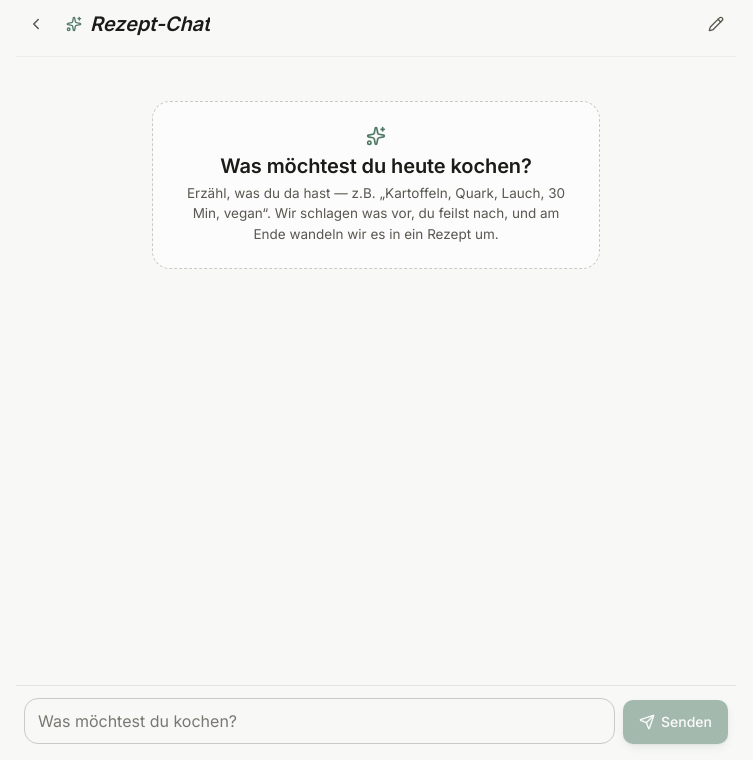
Test case: <ChatPage /> — abort + retry › Abbrechen aborts the stream and the partial content is preserved via refetch
(page scrolled)
Type "Frag was" into the text box named "Nachricht" at (320, 721), box [24,698,615,744]
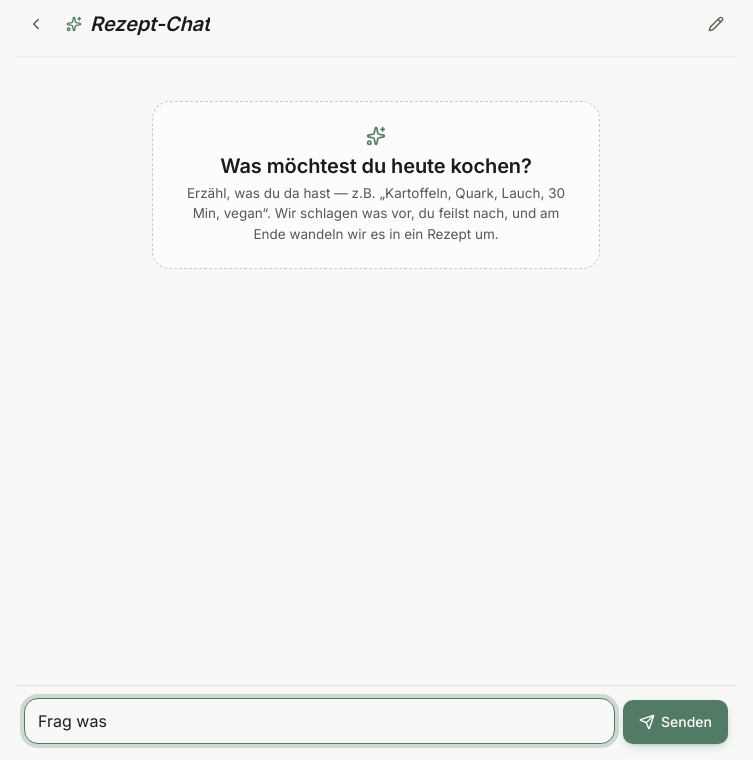
Click the button "Senden" at (676, 722), box [623,700,728,744]
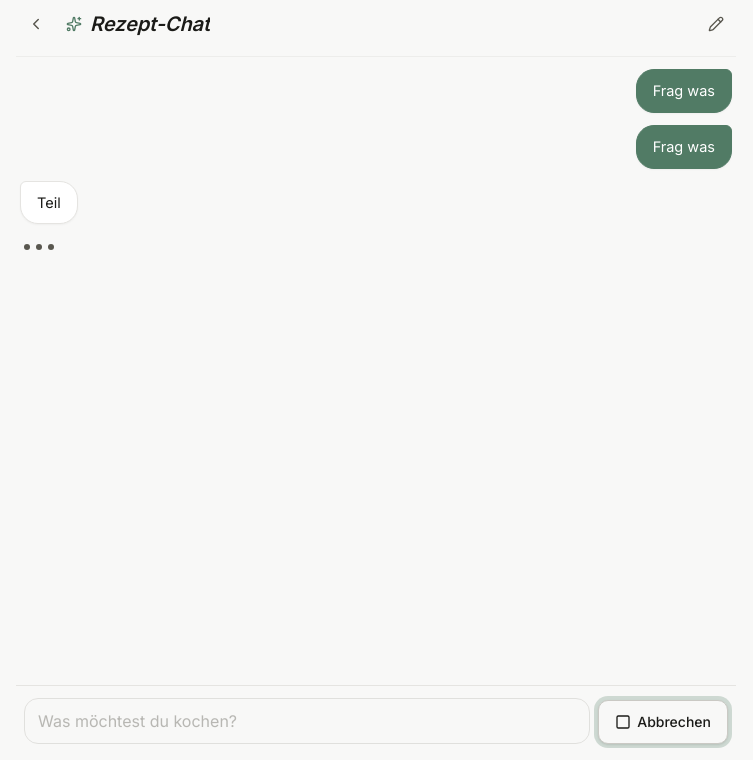
Expected: the text "Teil" is shown, [37,192,61,213]
Click the button "Abbrechen" at (663, 722), box [598,700,728,744]
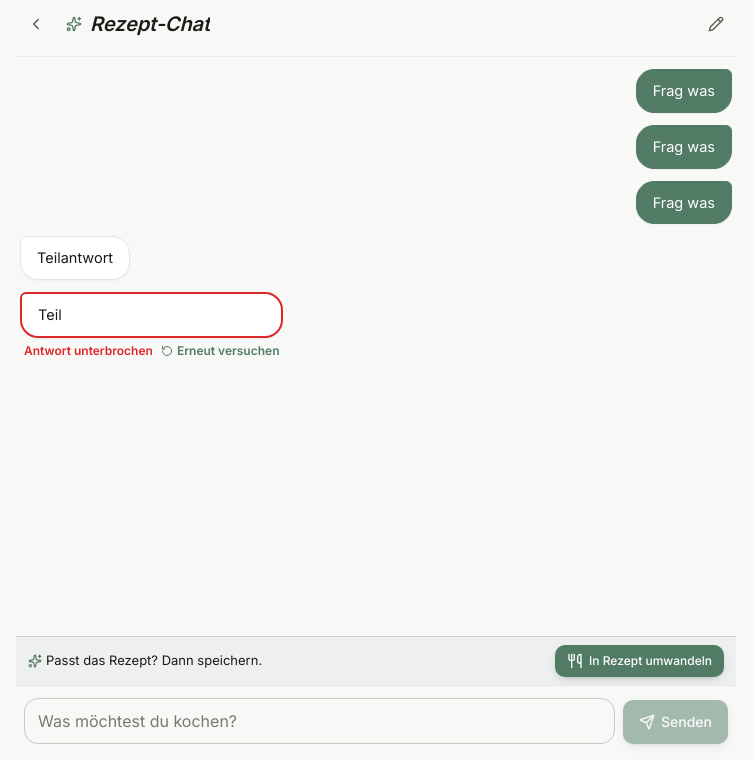
Expected: the text "Teilantwort" is shown, [37,247,113,269]
